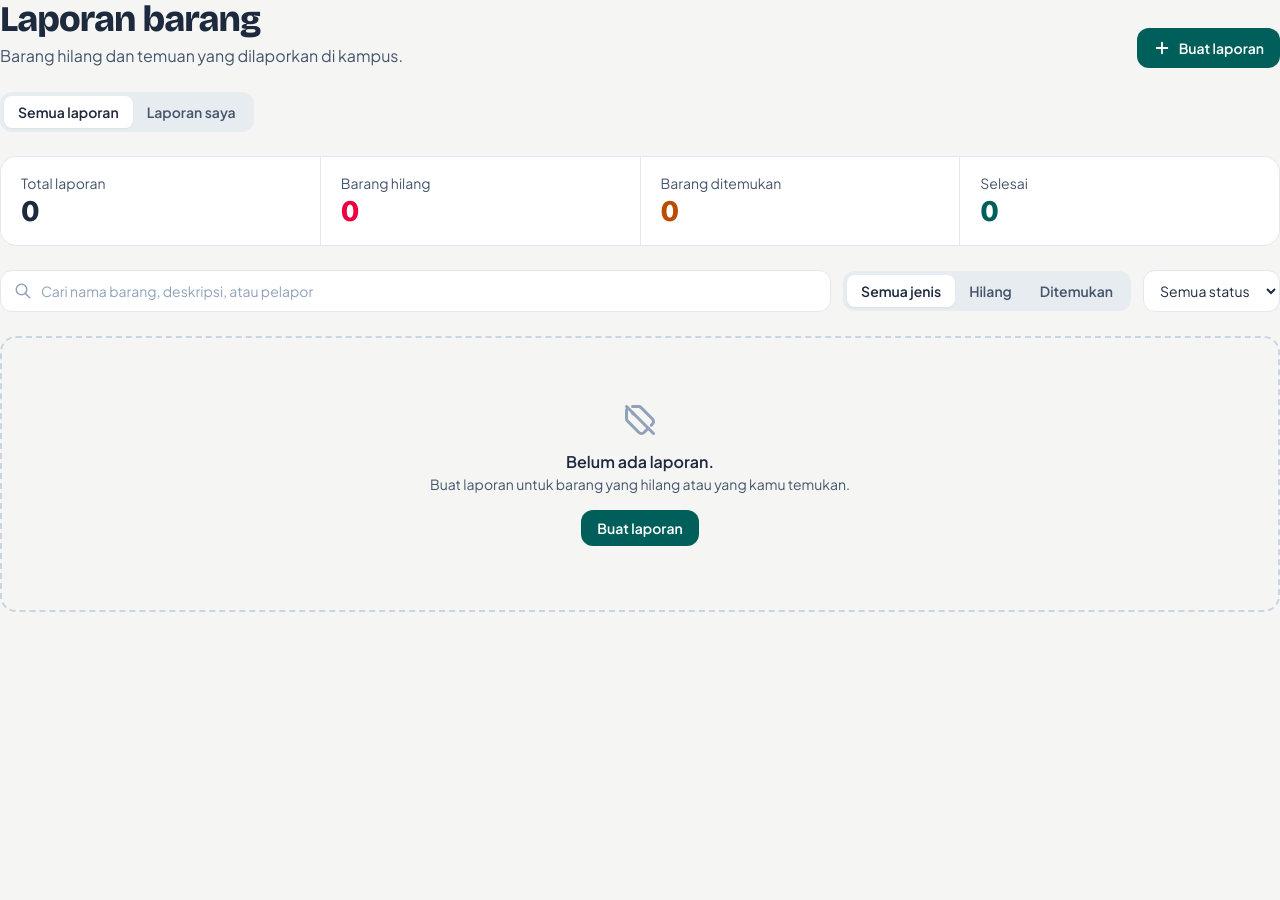
Test: HomePage › should show empty state and open add modal from it
Expected: the text "Belum ada laporan." is shown, [566,451,714,472]
Click the button with test id "empty-add-btn" at coordinates (640, 528), box [581,510,699,546]
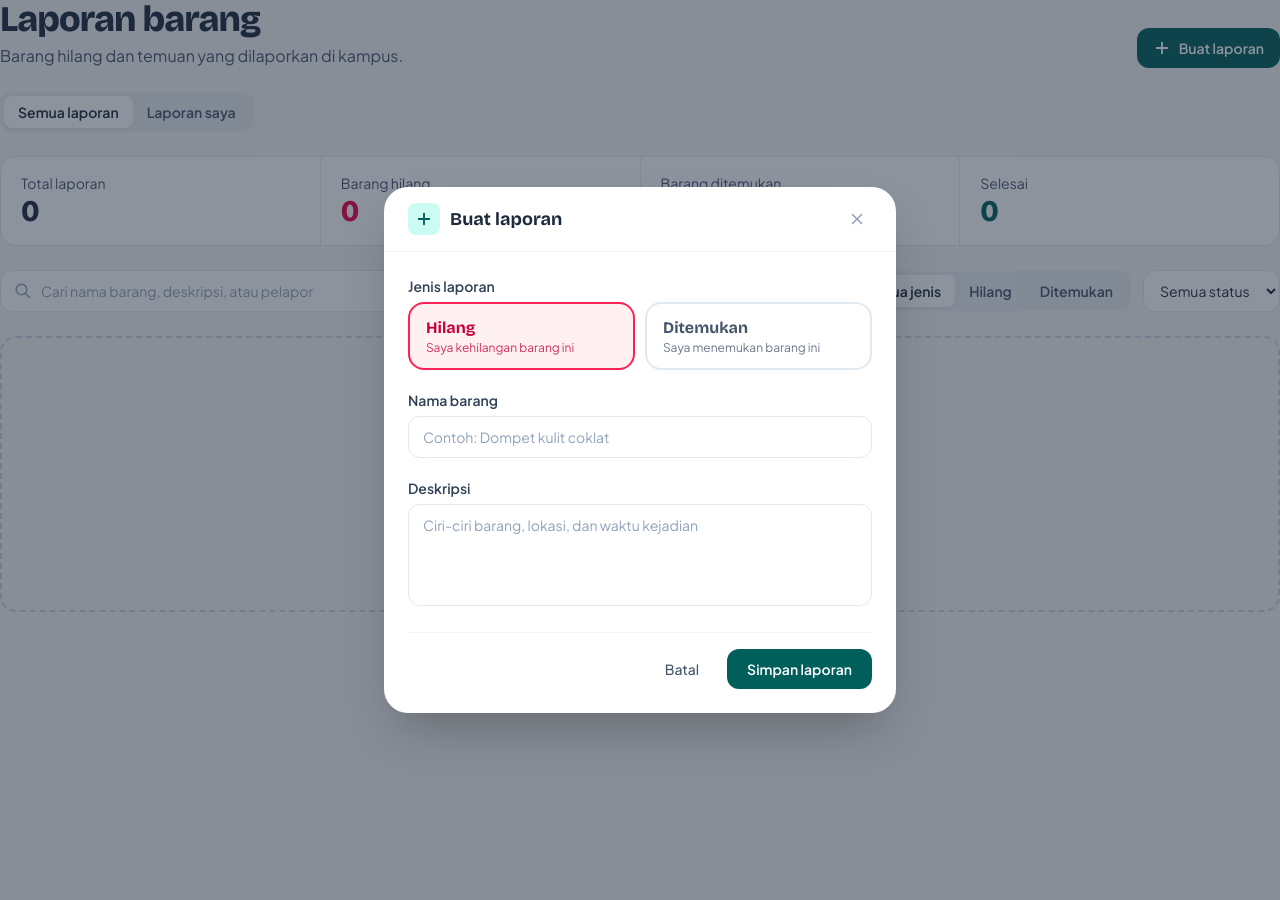
Now the dialog with test id "add-lost-found-modal" is shown
Click the button with test id "close-add-modal-btn" at coordinates (857, 219), box [842,204,872,234]
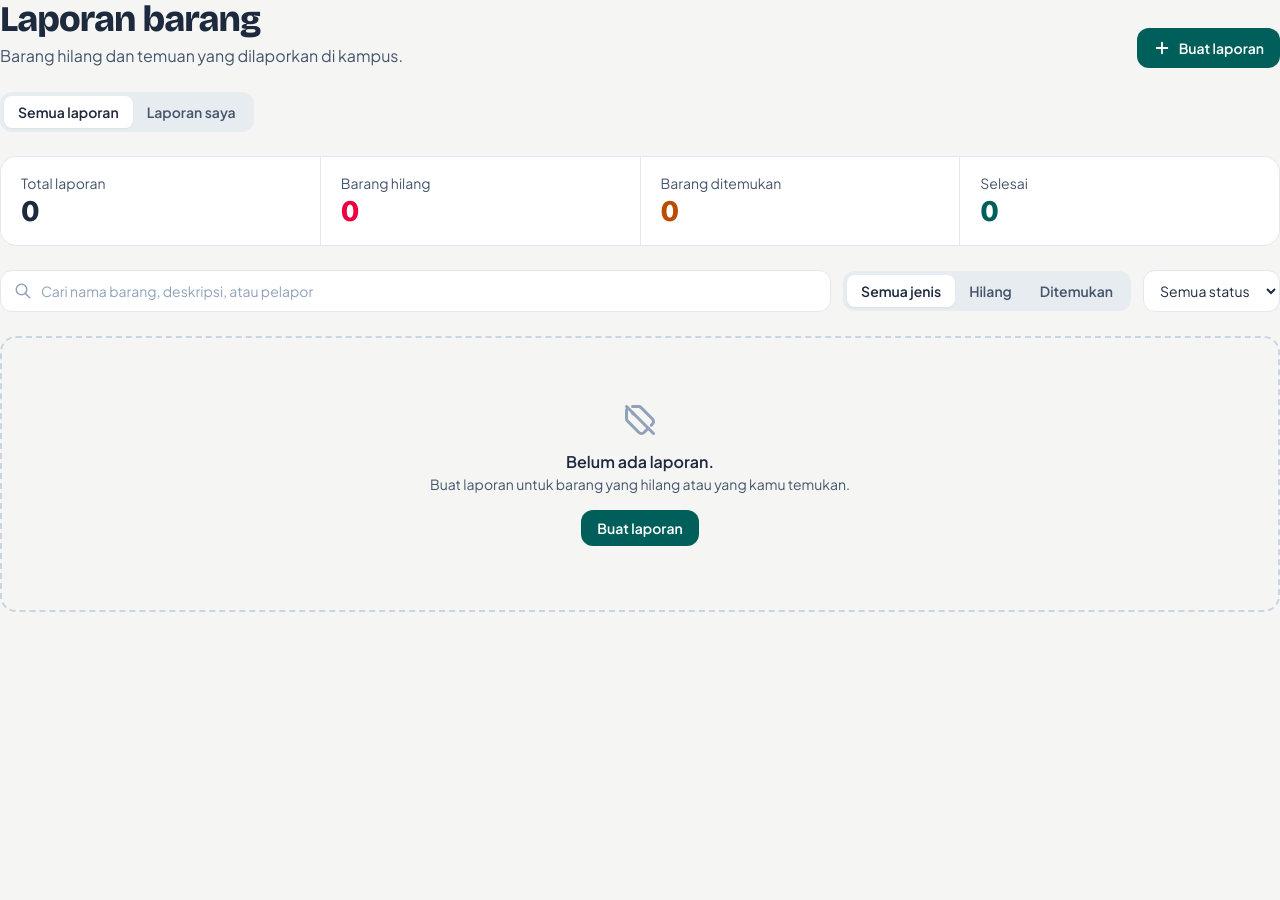
Now the dialog with test id "add-lost-found-modal" is gone
